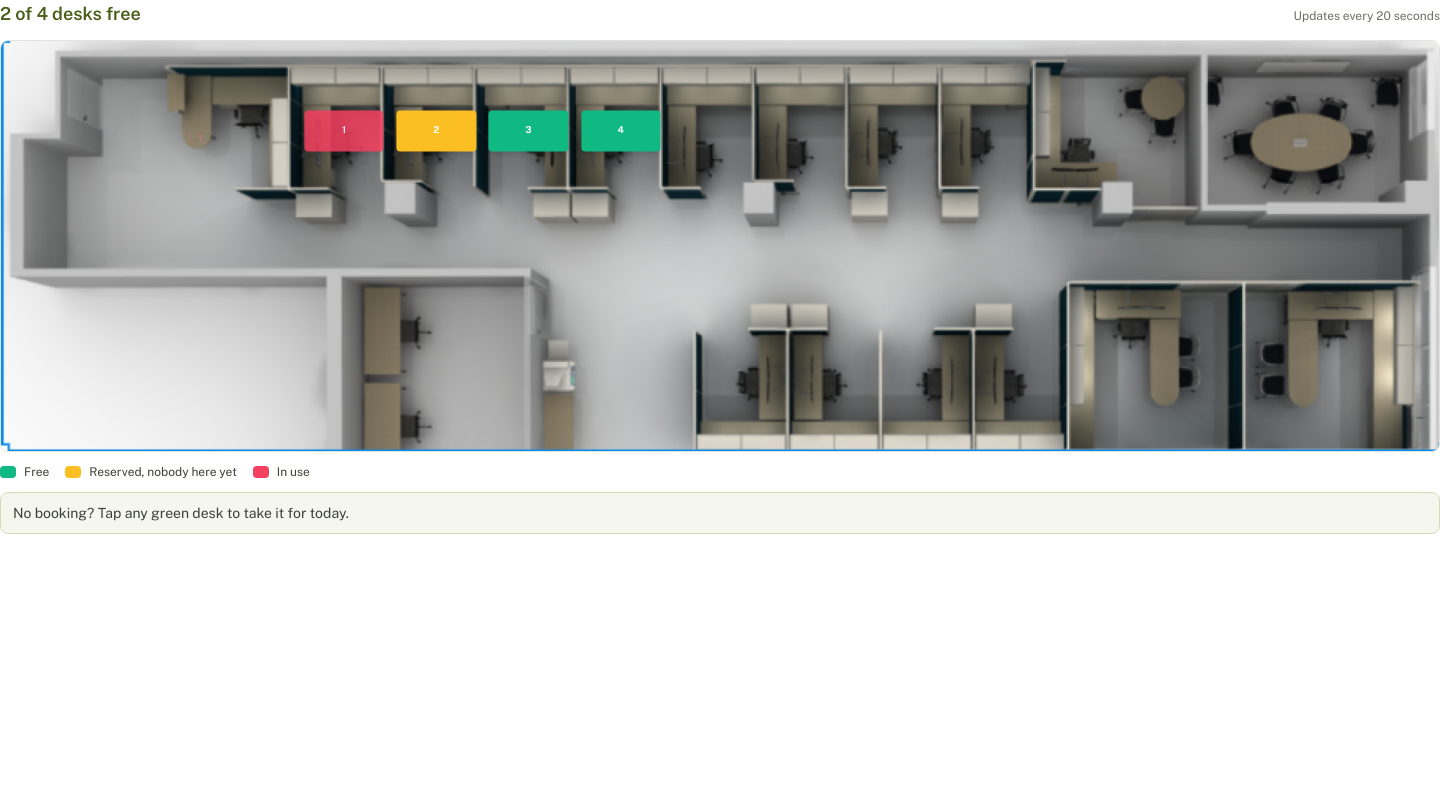
Scenario: losing the desk to somebody else is explained, and the floor re-read
Expected: the heading "2 of 4 desks free" is shown, x1=0 y1=0 x2=141 y2=28
Click the button named "Desk 4, free". click: (621, 131)
box: x1=581 y1=110 x2=660 y2=151
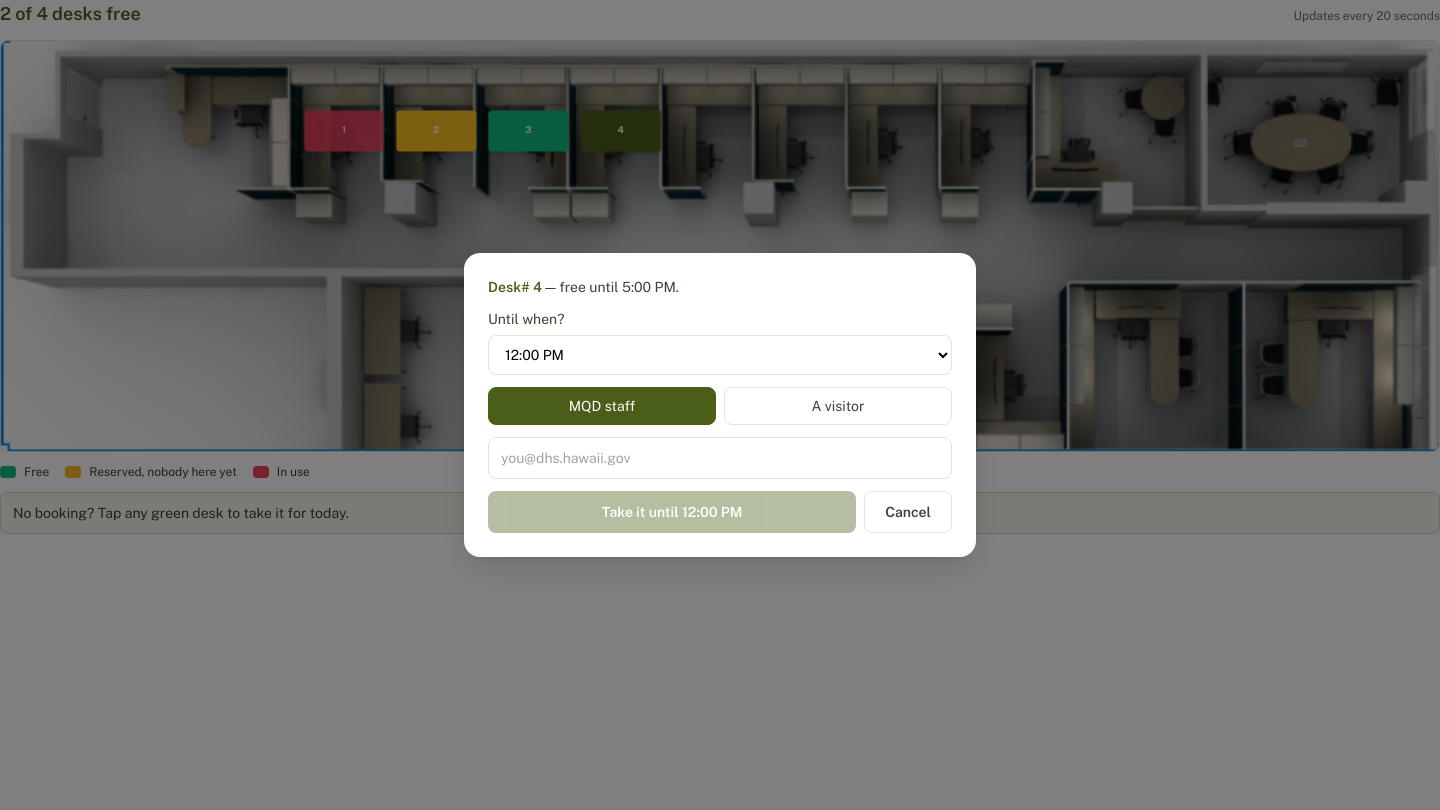
Type "mark.burgess@dhs.hawaii.gov" into the field named "your email address". click: (720, 458)
box: x1=488 y1=437 x2=952 y2=479
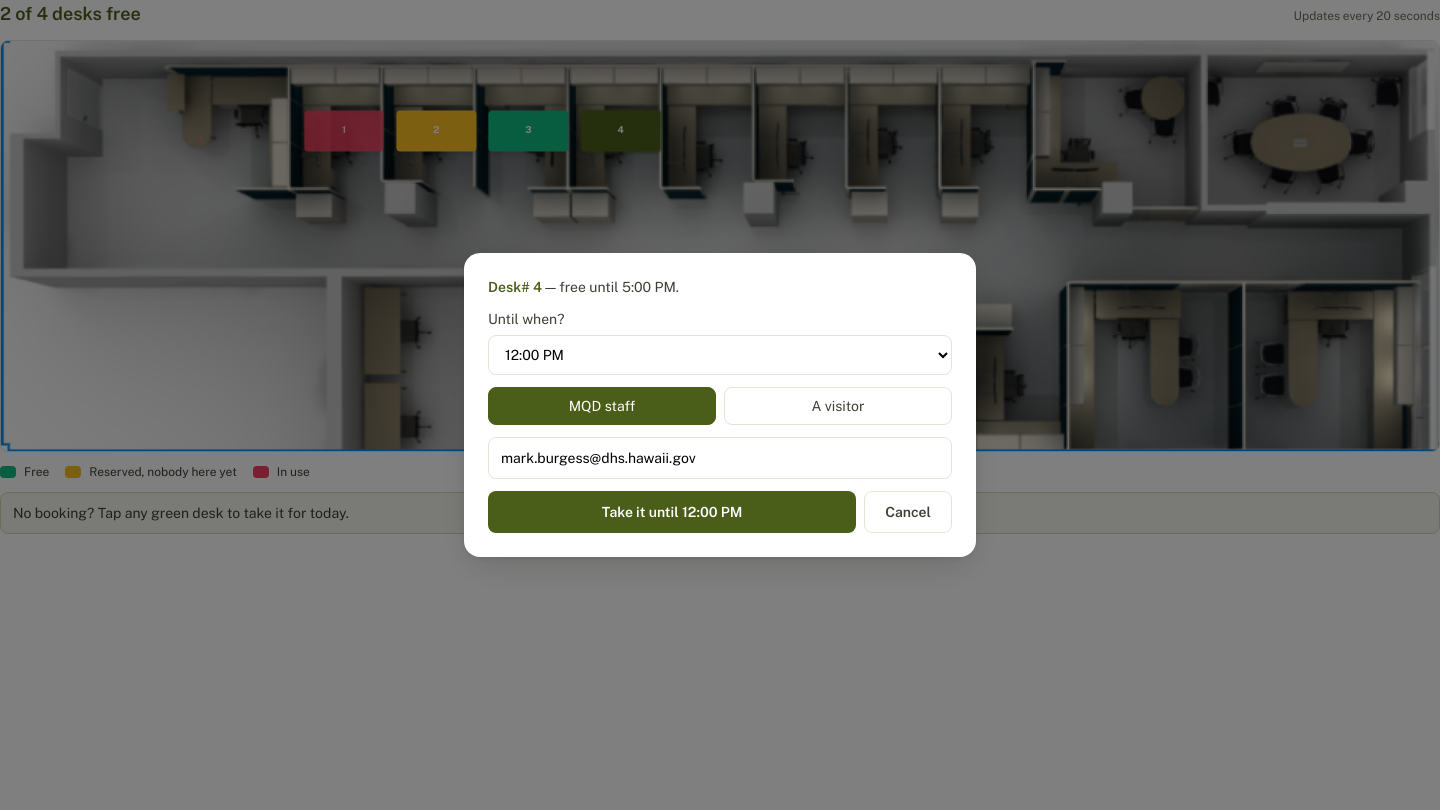
Click the button "Take it until 12:00 PM". click: (672, 512)
box: x1=488 y1=491 x2=856 y2=533
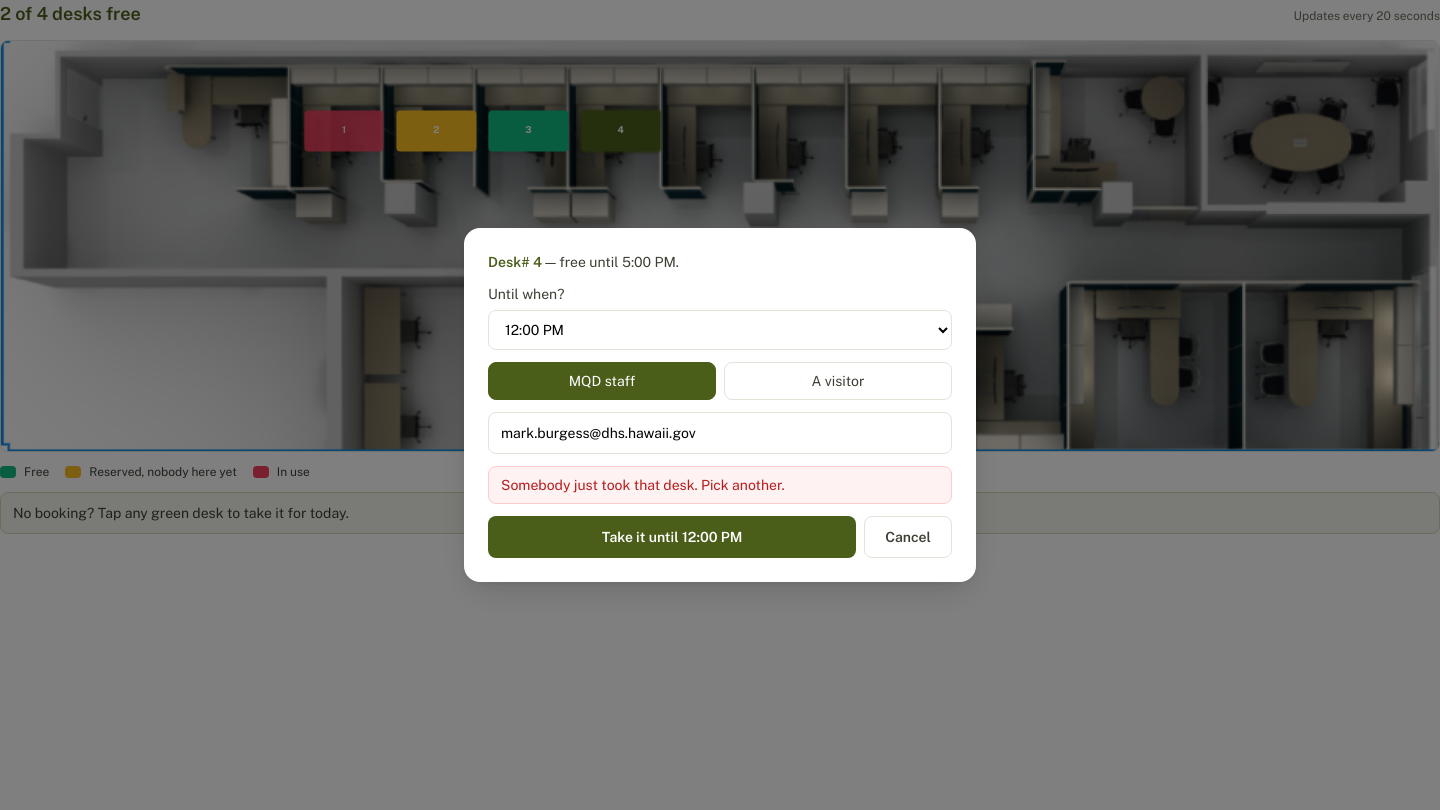
Now the text "Somebody just took that desk. Pick another." is shown, box x1=488 y1=466 x2=952 y2=504
